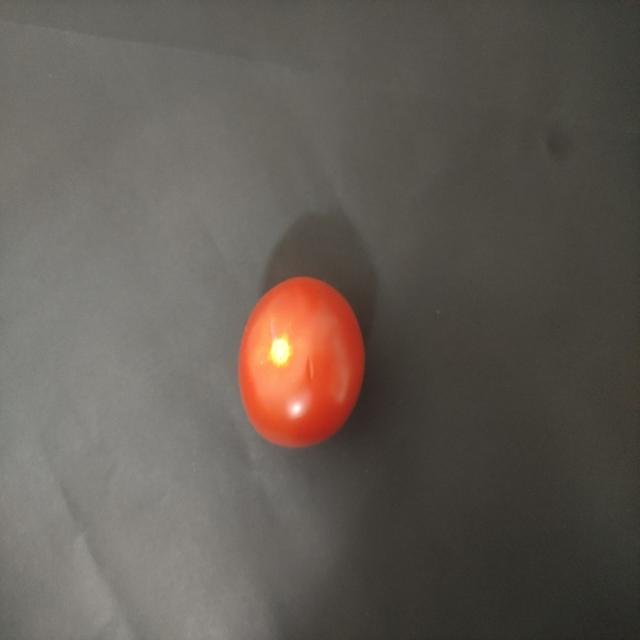kirmizi: (227, 262, 374, 468)
